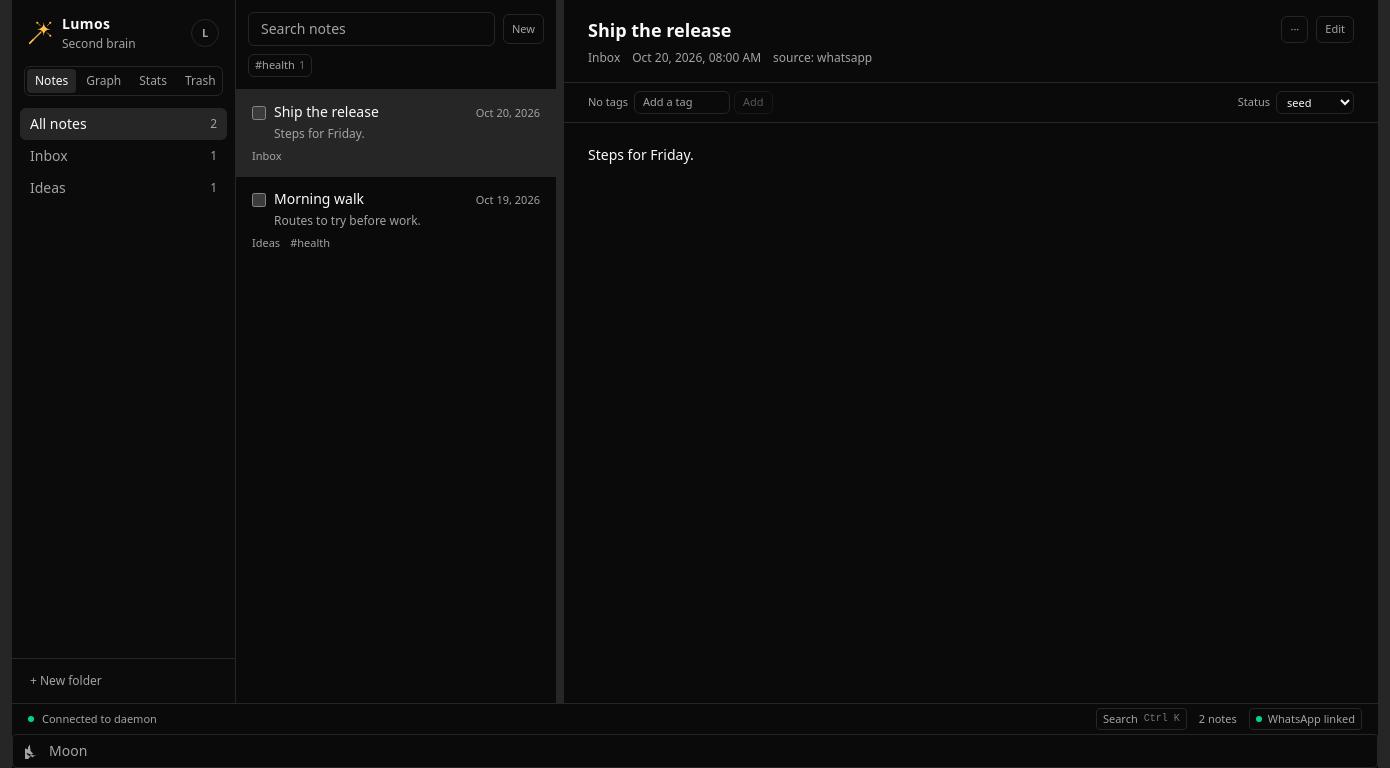
Scenario: the shell's address › opens the insights pane from its tab, and never the list beside it
Expected: the search field with placeholder "Search notes" is shown, [248, 12, 495, 46]
Click the tab "Stats": coordinates (153, 81) [131, 69, 175, 93]
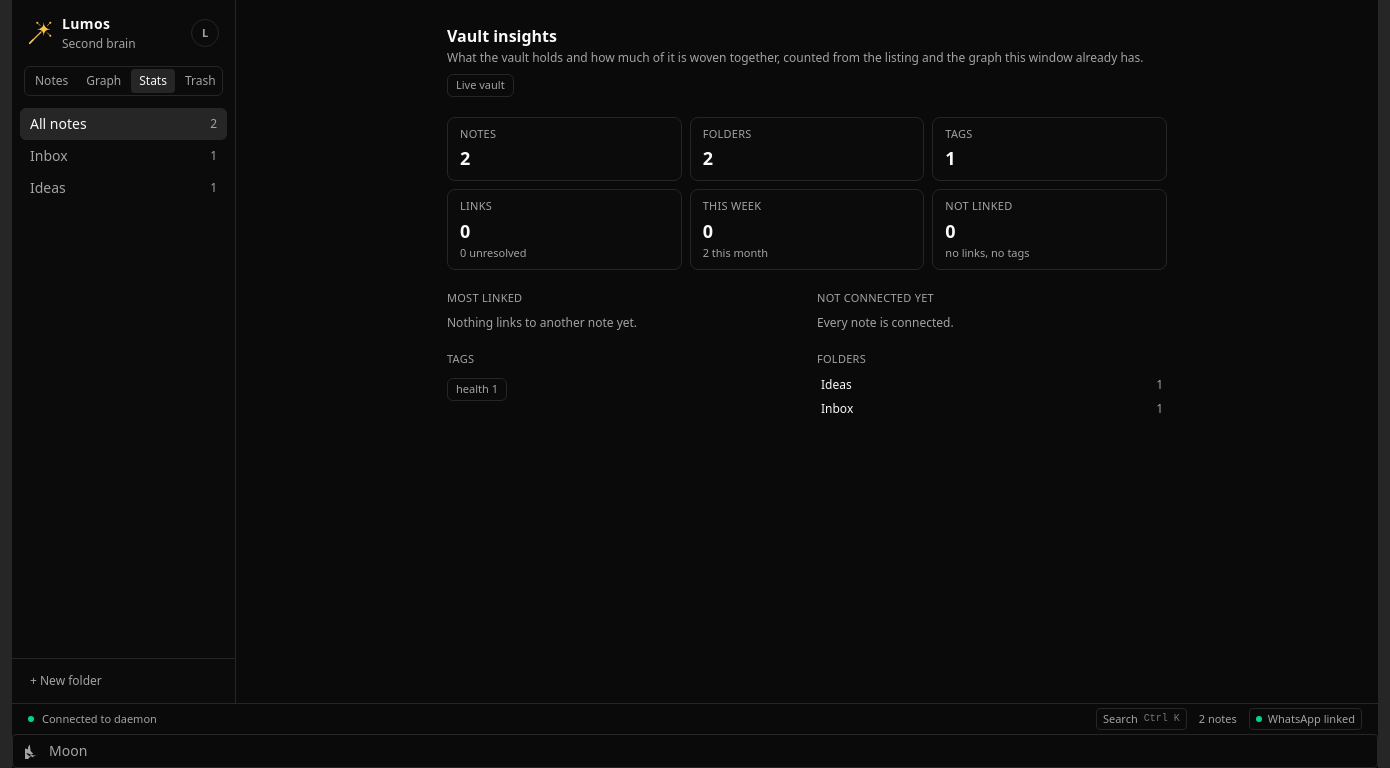
Expected: the field with placeholder "Search notes" is not shown
Now the element "Vault insights" is shown, box [447, 25, 1167, 419]
